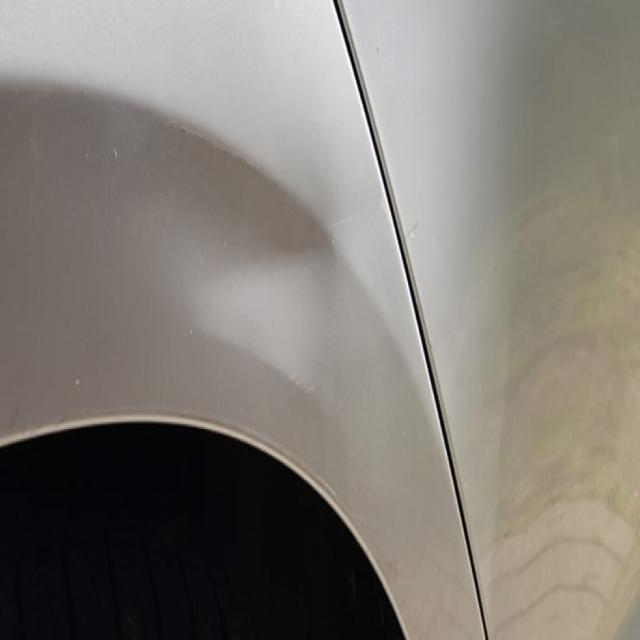dents: (180, 99, 388, 454)
